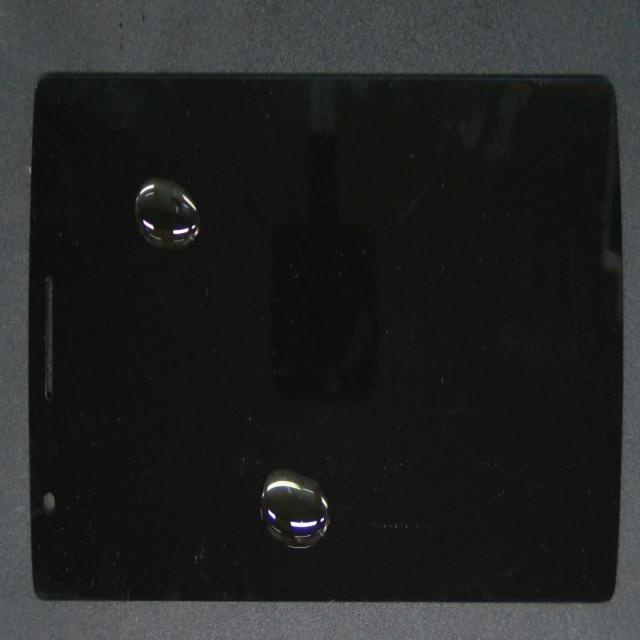oil: (156, 293, 489, 640), (109, 128, 298, 322)
